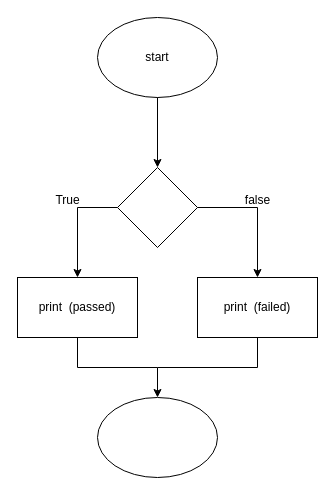
Image size: 335x495. Some labels were removed from this diagram. The shapes that lost their labels are listed below. From the top down, each one's centre as x and y in pixels, then its label:
At (157,207): "if avg >= 75".
At (157,437): "end".
